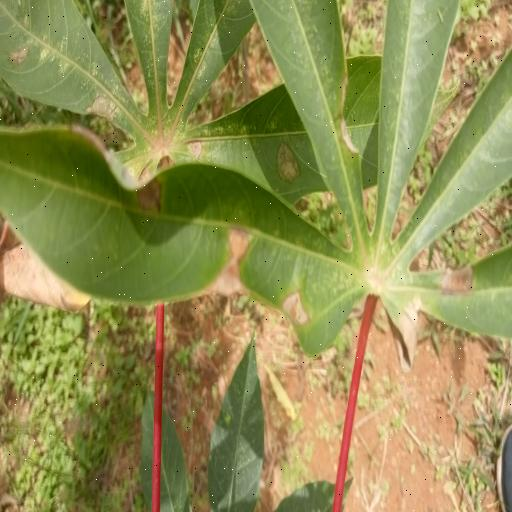Cassava_Brown_Leaf_Spot: (2, 0, 512, 369)
